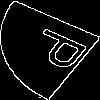P: (25, 25, 100, 78)
